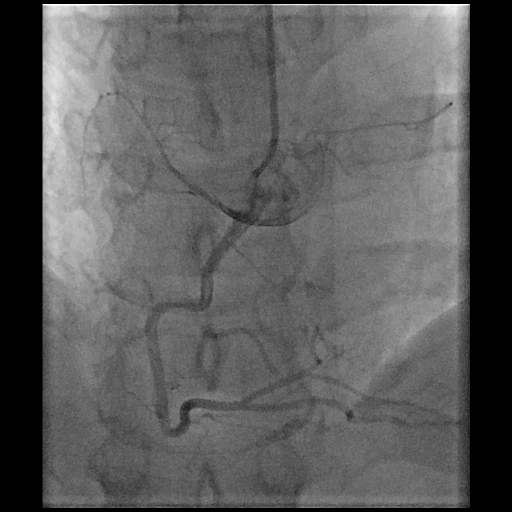RCA: (145, 177, 353, 436)
catherter: (252, 5, 279, 178)
